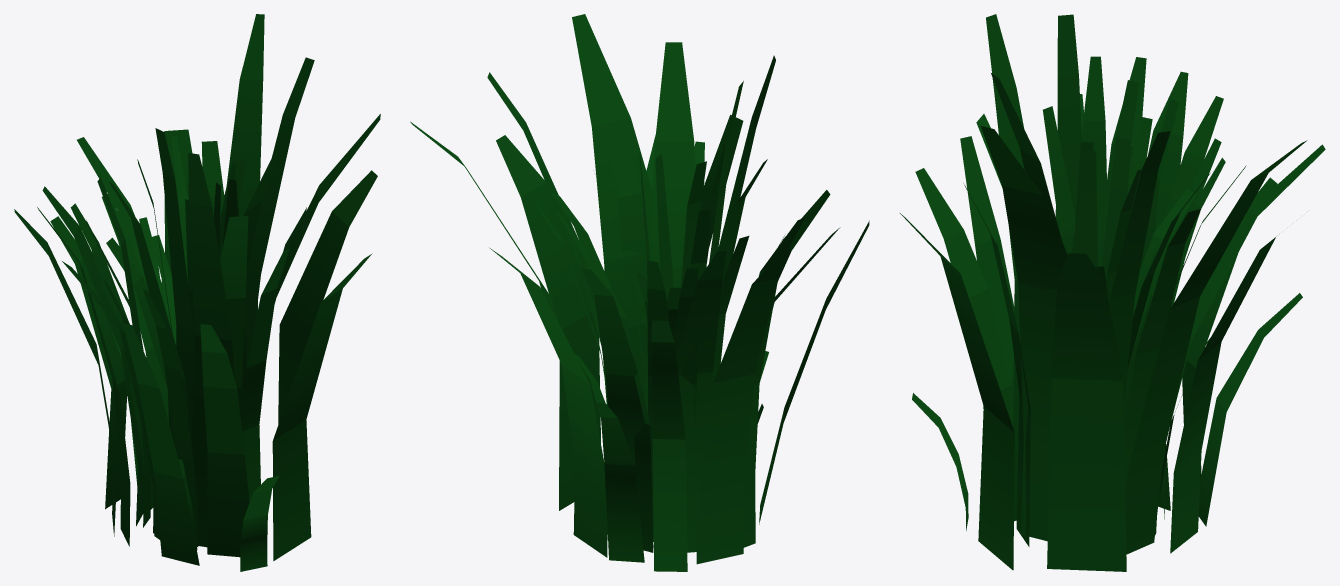
File: Weeds.fbx
3 renders of one model, left to right at view 1: azimuth 30°, elevation 25°; view 2: azimuth 150°, elevation 25°; view 3: azimuth 270°, elevation 25°, orthographic. The views are drawn at different scales.
Parts seen in each view (by area): view 1: Plane042; view 2: Plane042; view 3: Plane042.
Boxes of the visible parts, x1,y1,x2,y2 form: Plane042: [14, 14, 380, 571]; Plane042: [410, 14, 869, 571]; Plane042: [900, 14, 1325, 571].
Bounding box in the file's own units: 50.63 × 64.66 × 51.77.
